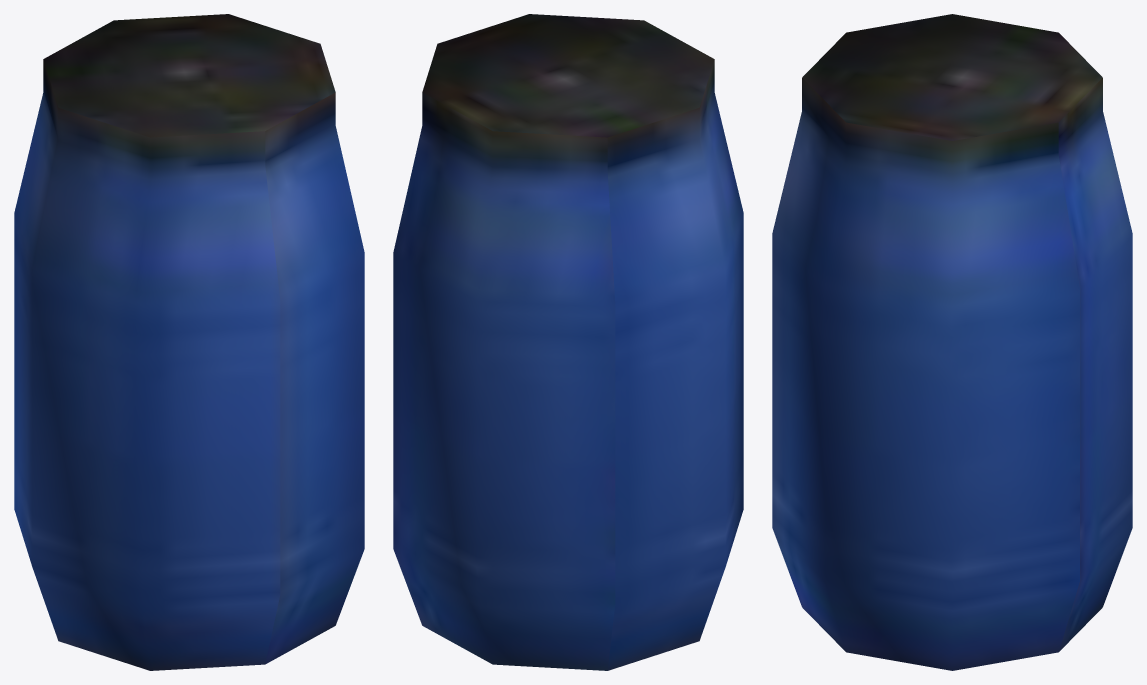
File: barrel_blue.glb
The picture shows the model from 3 angles, left to right: view 1: azimuth 30°, elevation 25°; view 2: azimuth 150°, elevation 25°; view 3: azimuth 270°, elevation 25°; orthographic projection.
Parts seen in each view (by area): view 1: barrel_blue; view 2: barrel_blue; view 3: barrel_blue.
Boxes of the visible parts, bbox=[...] form: barrel_blue: bbox=[14, 14, 364, 670]; barrel_blue: bbox=[393, 14, 743, 670]; barrel_blue: bbox=[772, 14, 1132, 670].
Bounding box in the file's own units: 0.5754 × 0.9332 × 0.5754.
1 material, 1 textured.
